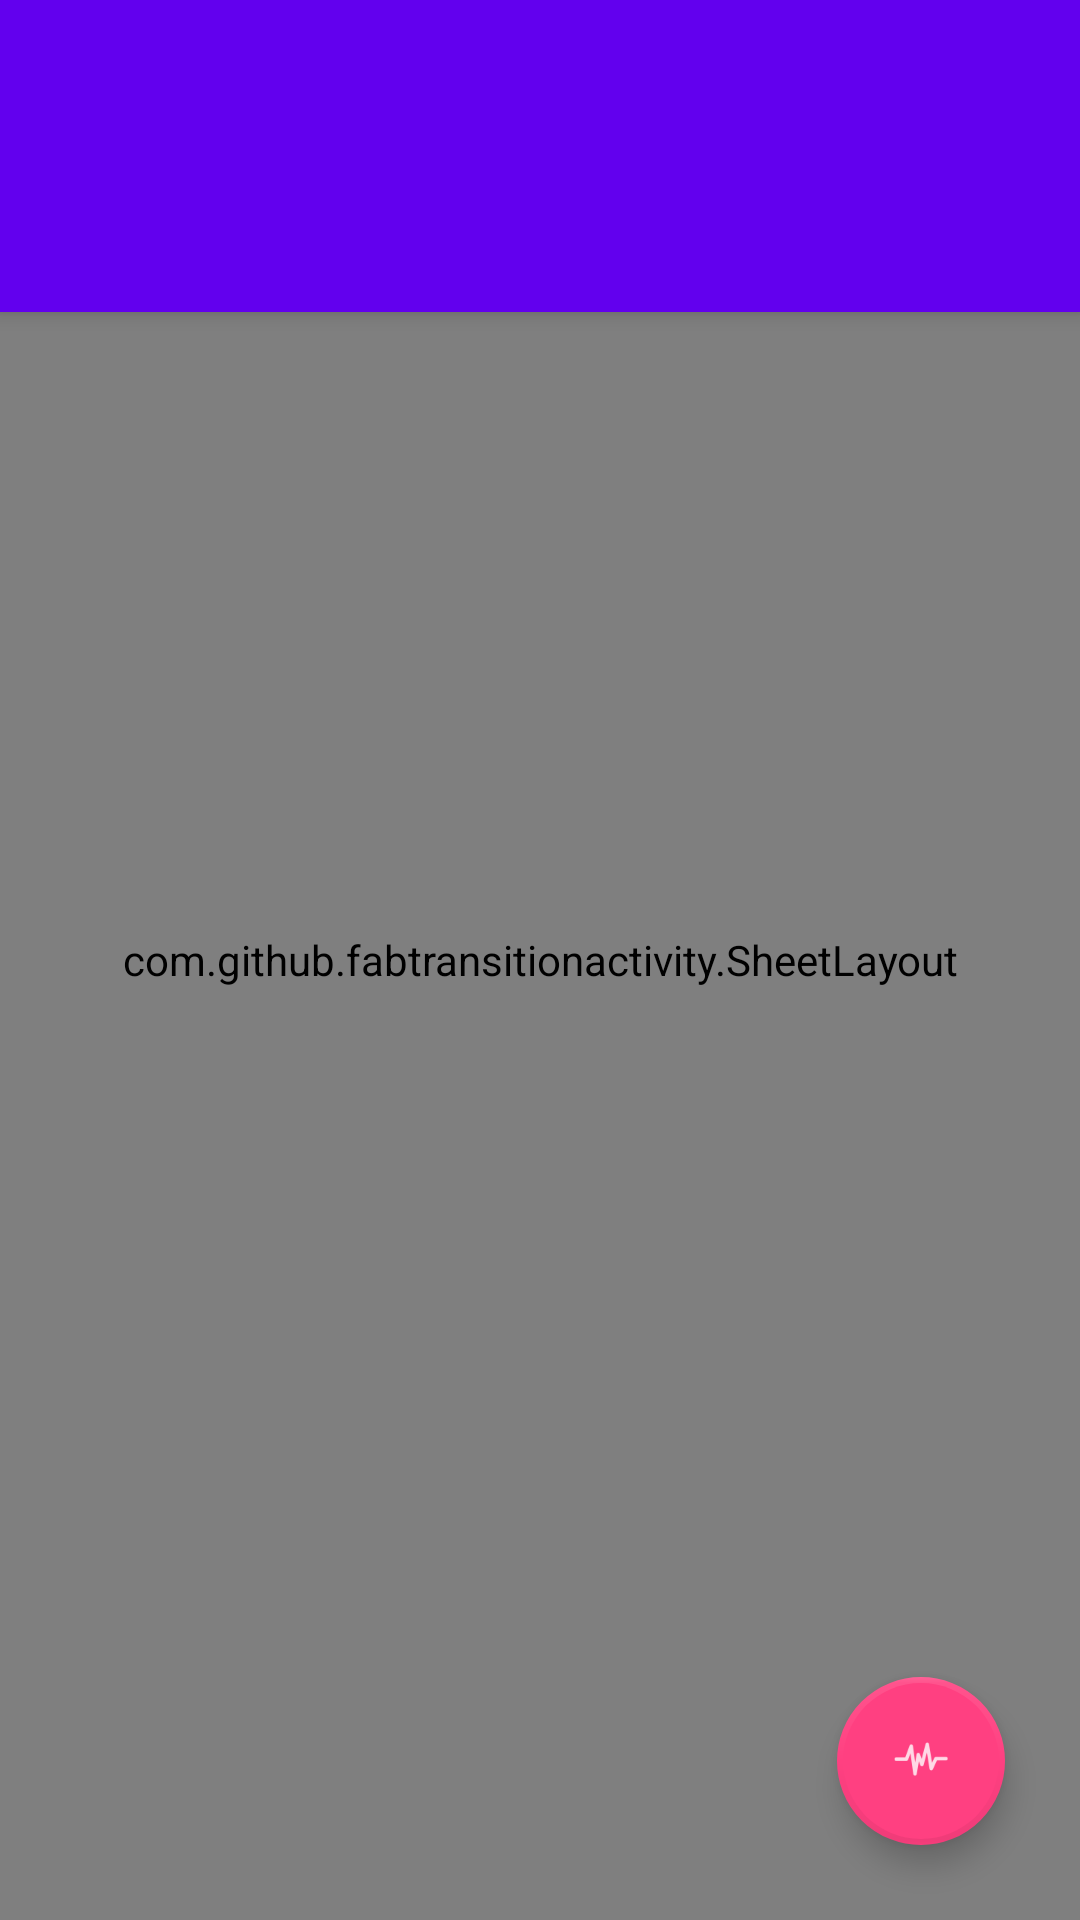

Icons on this 1080w x 1920h Android screen, each with its box as (x1, y1, x2, y2):
sense: (837, 1677, 1005, 1845)
